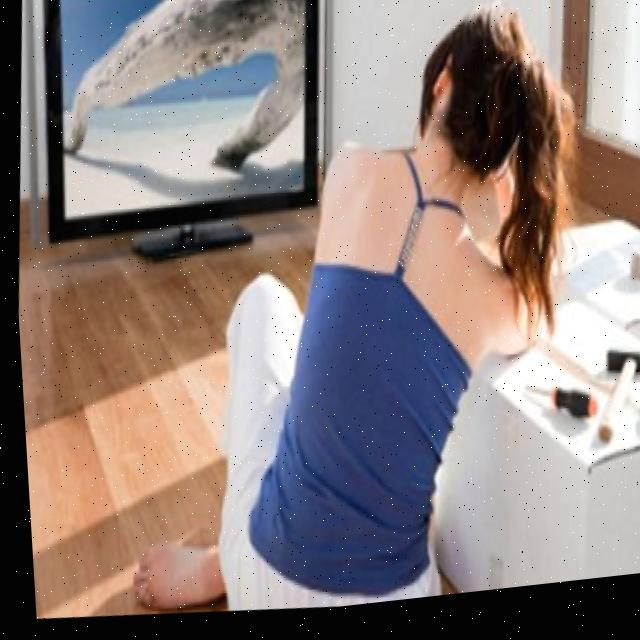tv-person: (0, 0, 581, 640)
